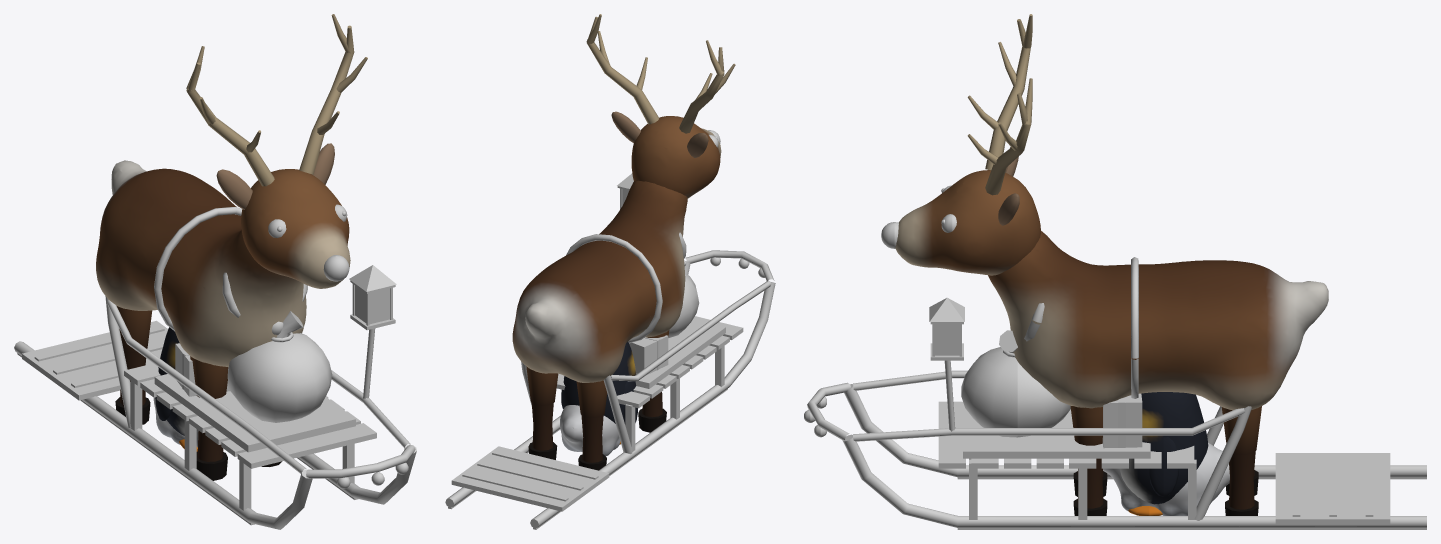
File: animals.glb
The picture shows the model from 3 angles, left to right: view 1: azimuth 30°, elevation 25°; view 2: azimuth 150°, elevation 25°; view 3: azimuth 270°, elevation 25°; orthographic projection. The views are drawn at different scales.
Visible parts, largest first — view 1: sled, deer_body, deer_head, deer_legFL_low, sled_glow, deer_legFL_up, deer_legHL_up, peng_body, deer_legHL_low; view 2: deer_body, sled, deer_head, hare_body, peng_body, deer_legHR_low, deer_legHL_low, deer_legHL_up, deer_legHR_up, deer_legFL_low; view 3: sled, deer_body, deer_head, peng_body, hare_body, deer_legHR_low, peng_wingR, deer_legHR_up, deer_legFR_low, deer_legFR_up, sled_glow.
Boxes of the visible parts, x1,y1,x2,y2 form: sled: [14, 265, 416, 529]; deer_body: [96, 160, 307, 366]; deer_head: [186, 14, 367, 288]; deer_legFL_low: [196, 431, 227, 480]; sled_glow: [355, 285, 390, 324]; deer_legFL_up: [190, 356, 228, 398]; deer_legHL_up: [116, 306, 152, 352]; peng_body: [158, 327, 197, 435]; deer_legHL_low: [115, 351, 150, 424]; deer_body: [512, 180, 687, 382]; sled: [445, 173, 775, 529]; deer_head: [586, 14, 735, 198]; hare_body: [560, 405, 620, 456]; peng_body: [562, 342, 636, 424]; deer_legHR_low: [528, 403, 557, 459]; deer_legHL_low: [578, 415, 606, 470]; deer_legHL_up: [576, 380, 607, 417]; deer_legHR_up: [526, 366, 558, 405]; deer_legFL_low: [638, 392, 666, 432]; sled: [804, 297, 1426, 529]; deer_body: [988, 231, 1328, 410]; deer_head: [881, 14, 1040, 275]; peng_body: [1120, 392, 1208, 504]; hare_body: [1103, 442, 1229, 515]; deer_legHR_low: [1225, 451, 1258, 515]; peng_wingR: [1149, 437, 1178, 496]; deer_legHR_up: [1221, 406, 1261, 454]; deer_legFR_low: [1073, 458, 1107, 515]; deer_legFR_up: [1070, 406, 1102, 445]; sled_glow: [935, 324, 959, 355].
Bounding box in the file's own units: 0.7467 × 1.96 × 2.39.
